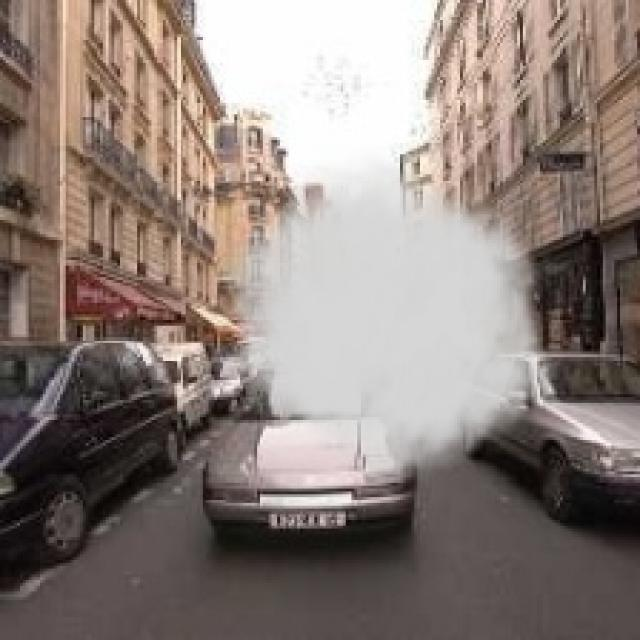Smoke: (220, 146, 566, 492)
